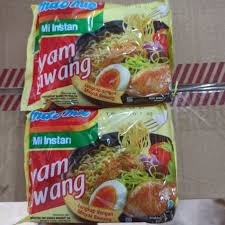Indomie Ayam Bawang (69g): (21, 109, 183, 214), (23, 3, 178, 105)
